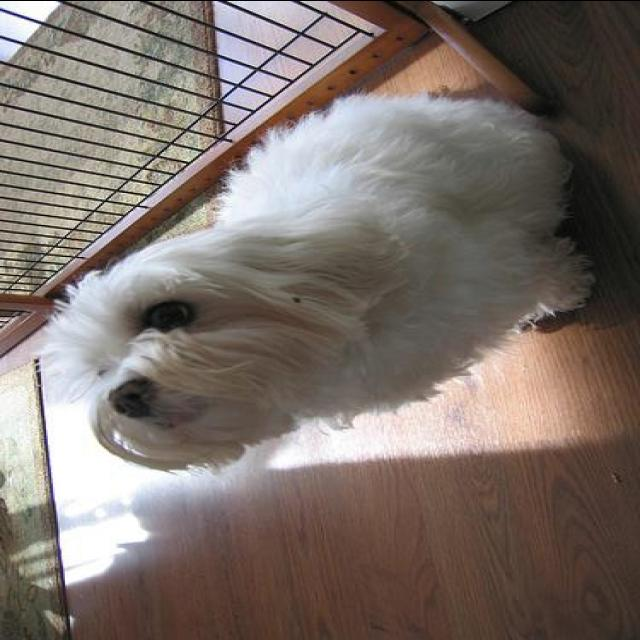maltese_dog: (29, 94, 594, 472)
